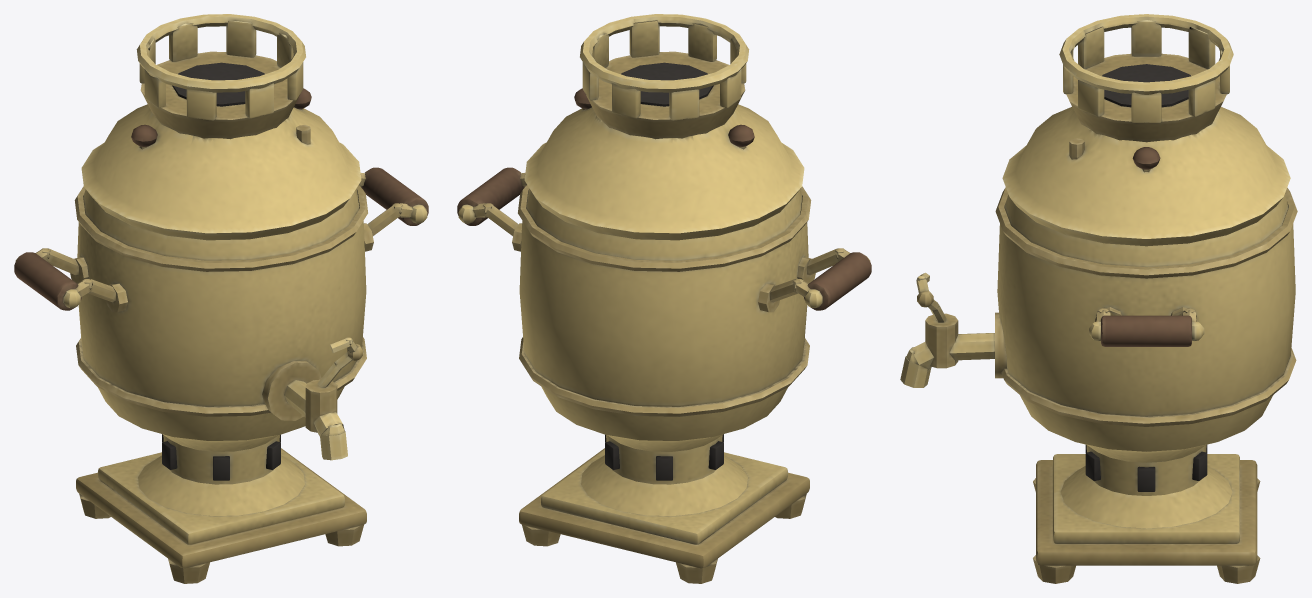
Rendered from samovar.glb.
3 renders of one model, left to right at view 1: azimuth 30°, elevation 25°; view 2: azimuth 150°, elevation 25°; view 3: azimuth 270°, elevation 25°, orthographic. The views are drawn at different scales.
Visible parts, largest first — view 1: samovar; view 2: samovar; view 3: samovar.
Boxes of the visible parts, x1,y1,x2,y2 form: samovar: [14, 14, 428, 583]; samovar: [457, 14, 871, 583]; samovar: [900, 14, 1297, 583].
Bounding box in the file's own units: 0.3487 × 0.4263 × 0.3143.
1 material, 1 textured.
